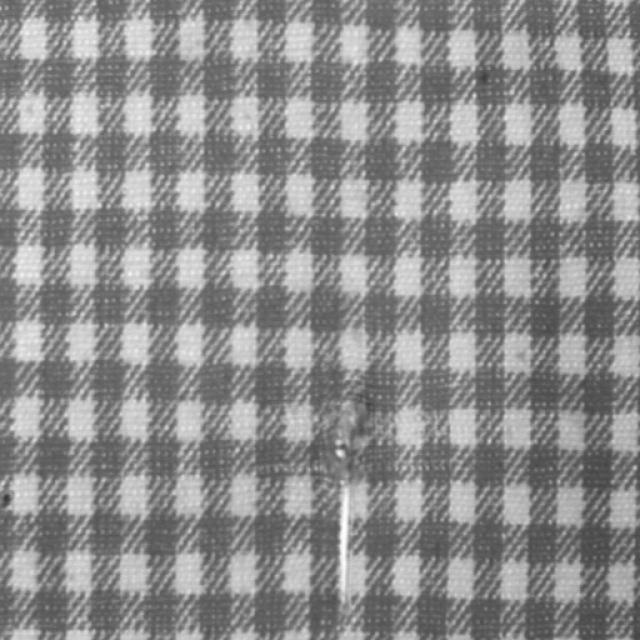Hole-Defect: (315, 384, 379, 609)
